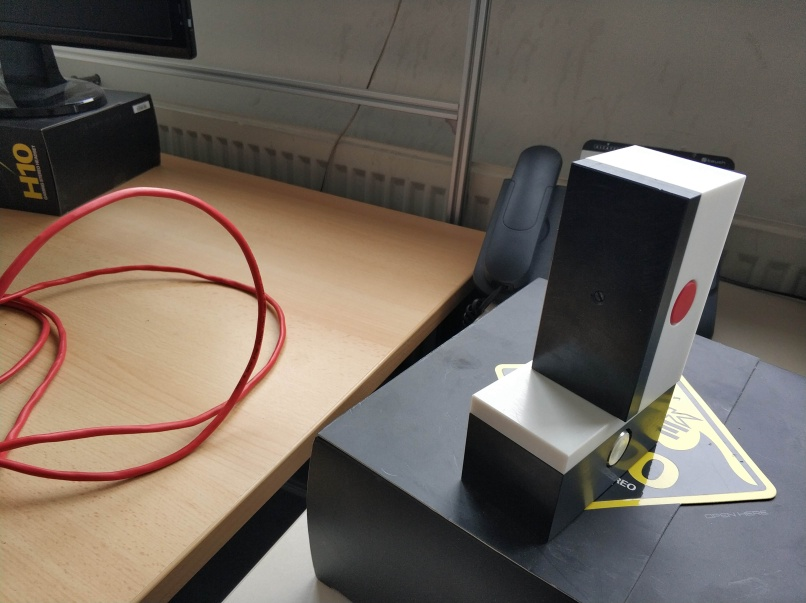black+white+red: (527, 140, 749, 422)
white+black+silver: (460, 353, 679, 545)
